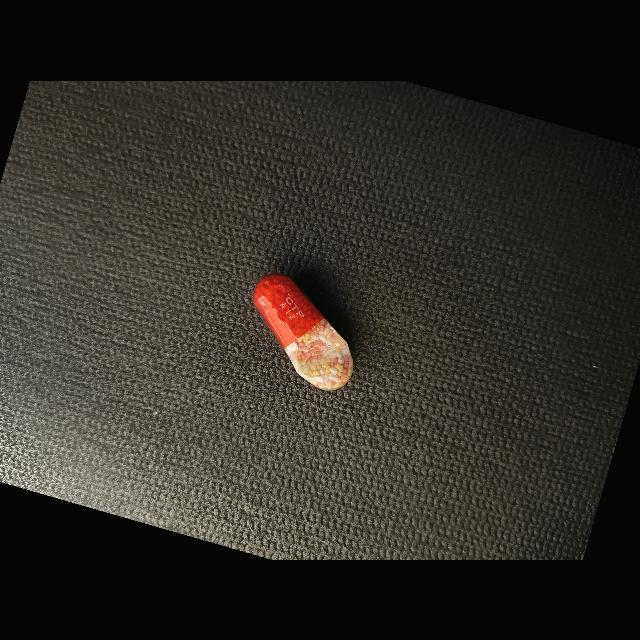Defective Capsule: (253, 273, 353, 390)
